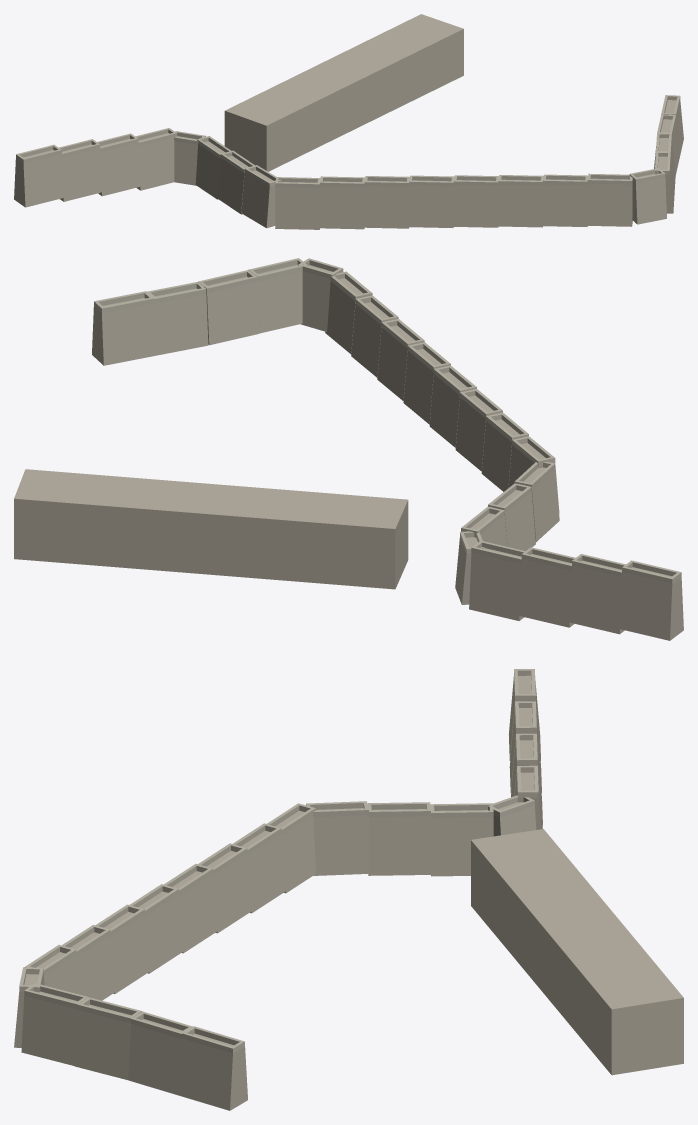
Rendered from bormla_61_33_collision.glb.
3 renders of one model, top to bottom at view 1: azimuth 30°, elevation 25°; view 2: azimuth 150°, elevation 25°; view 3: azimuth 270°, elevation 25°, orthographic. The views are drawn at different scales.
Visible parts, largest first — view 1: geometry_0; view 2: geometry_0; view 3: geometry_0.
Part boxes in pixels (x1,y1,x2,y2): geometry_0: [14, 14, 683, 229]; geometry_0: [14, 258, 683, 640]; geometry_0: [14, 669, 683, 1110].
Size of the model in its own units: 174 by 17.86 by 128.
